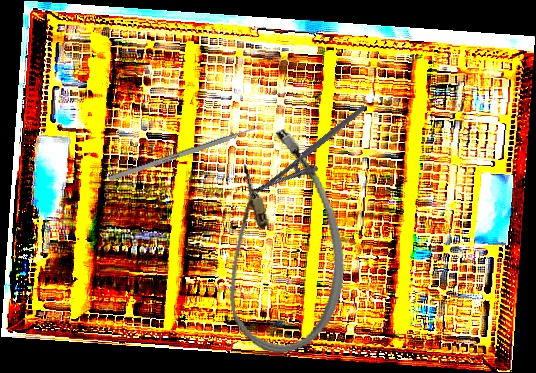Cannula: (198, 121, 360, 362)
Needle Holder: (253, 104, 379, 209)
Pusher: (108, 120, 272, 182)
